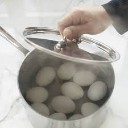begg: (60, 81, 84, 99), (36, 66, 56, 85), (89, 82, 107, 101)
